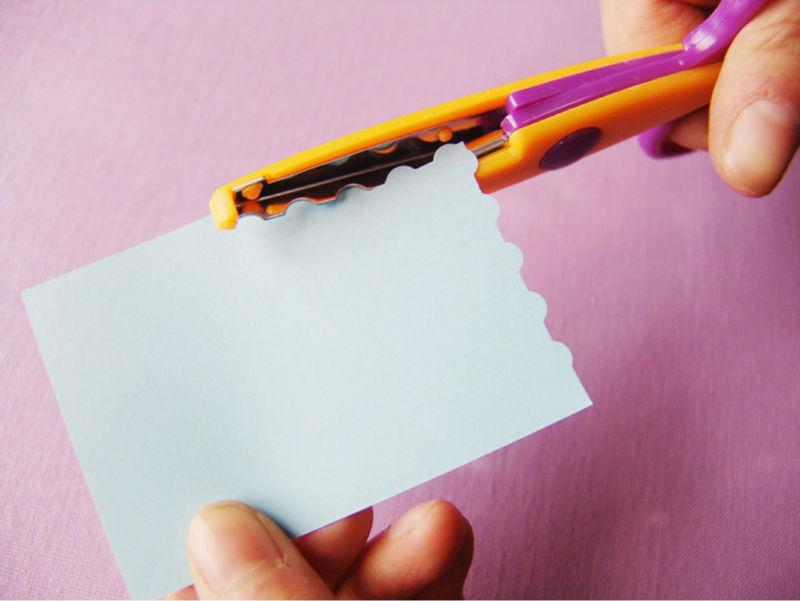scissor: (96, 43, 800, 242)
